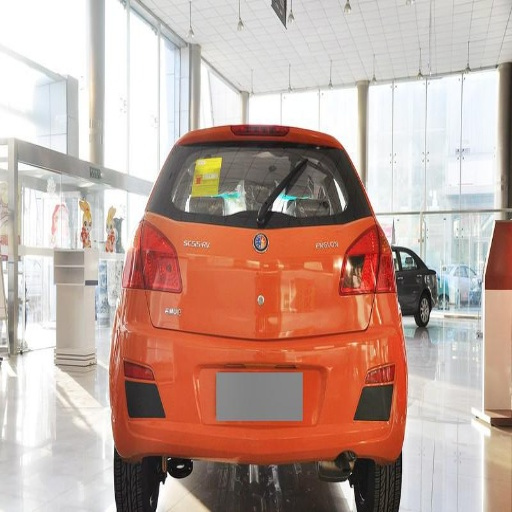back_bumper: (114, 292, 401, 454)
trunk: (148, 214, 387, 408)
